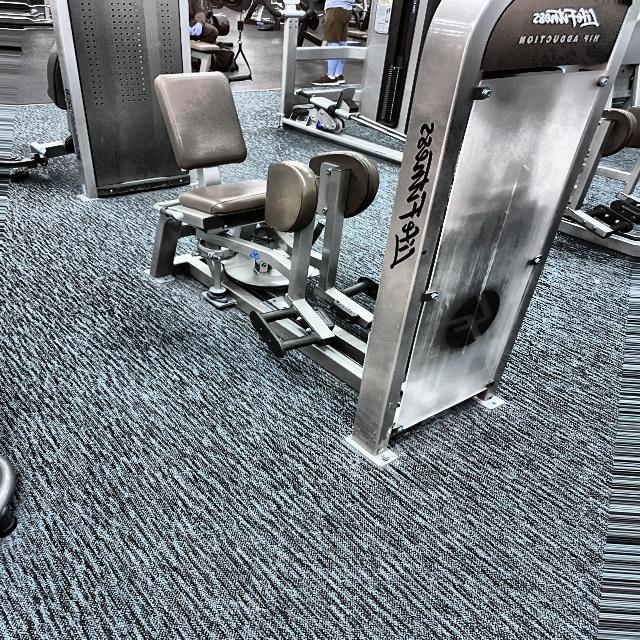hip_adduction_machine: (110, 56, 404, 367), (514, 32, 612, 48)
